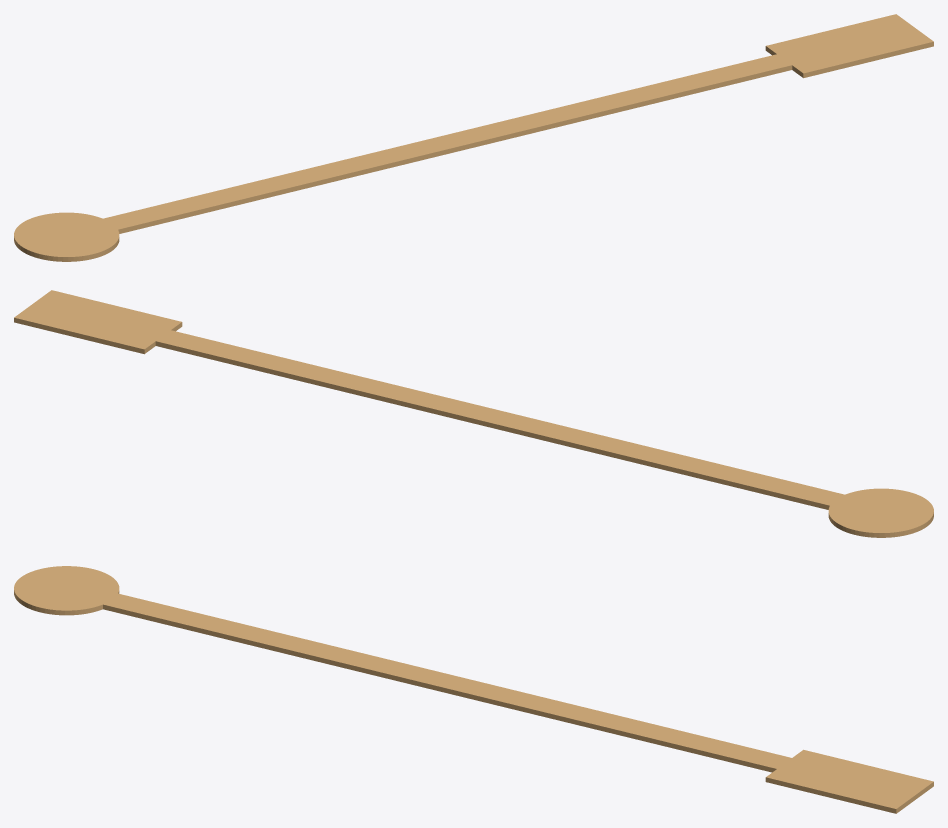
Rendered from board.glb.
3 views of the same model, one above another, from view 1: azimuth 30°, elevation 25°; view 2: azimuth 150°, elevation 25°; view 3: azimuth 330°, elevation 25° (orthographic).
Parts seen in each view (by area): view 1: Unified_Net_1_Island_0; view 2: Unified_Net_1_Island_0; view 3: Unified_Net_1_Island_0.
Part boxes in pixels (x1,y1,x2,y2): Unified_Net_1_Island_0: (14, 14, 933, 261); Unified_Net_1_Island_0: (14, 290, 933, 537); Unified_Net_1_Island_0: (14, 566, 933, 813).
Size of the model in its own units: 0.00685 by 3.5e-05 by 0.0007.
